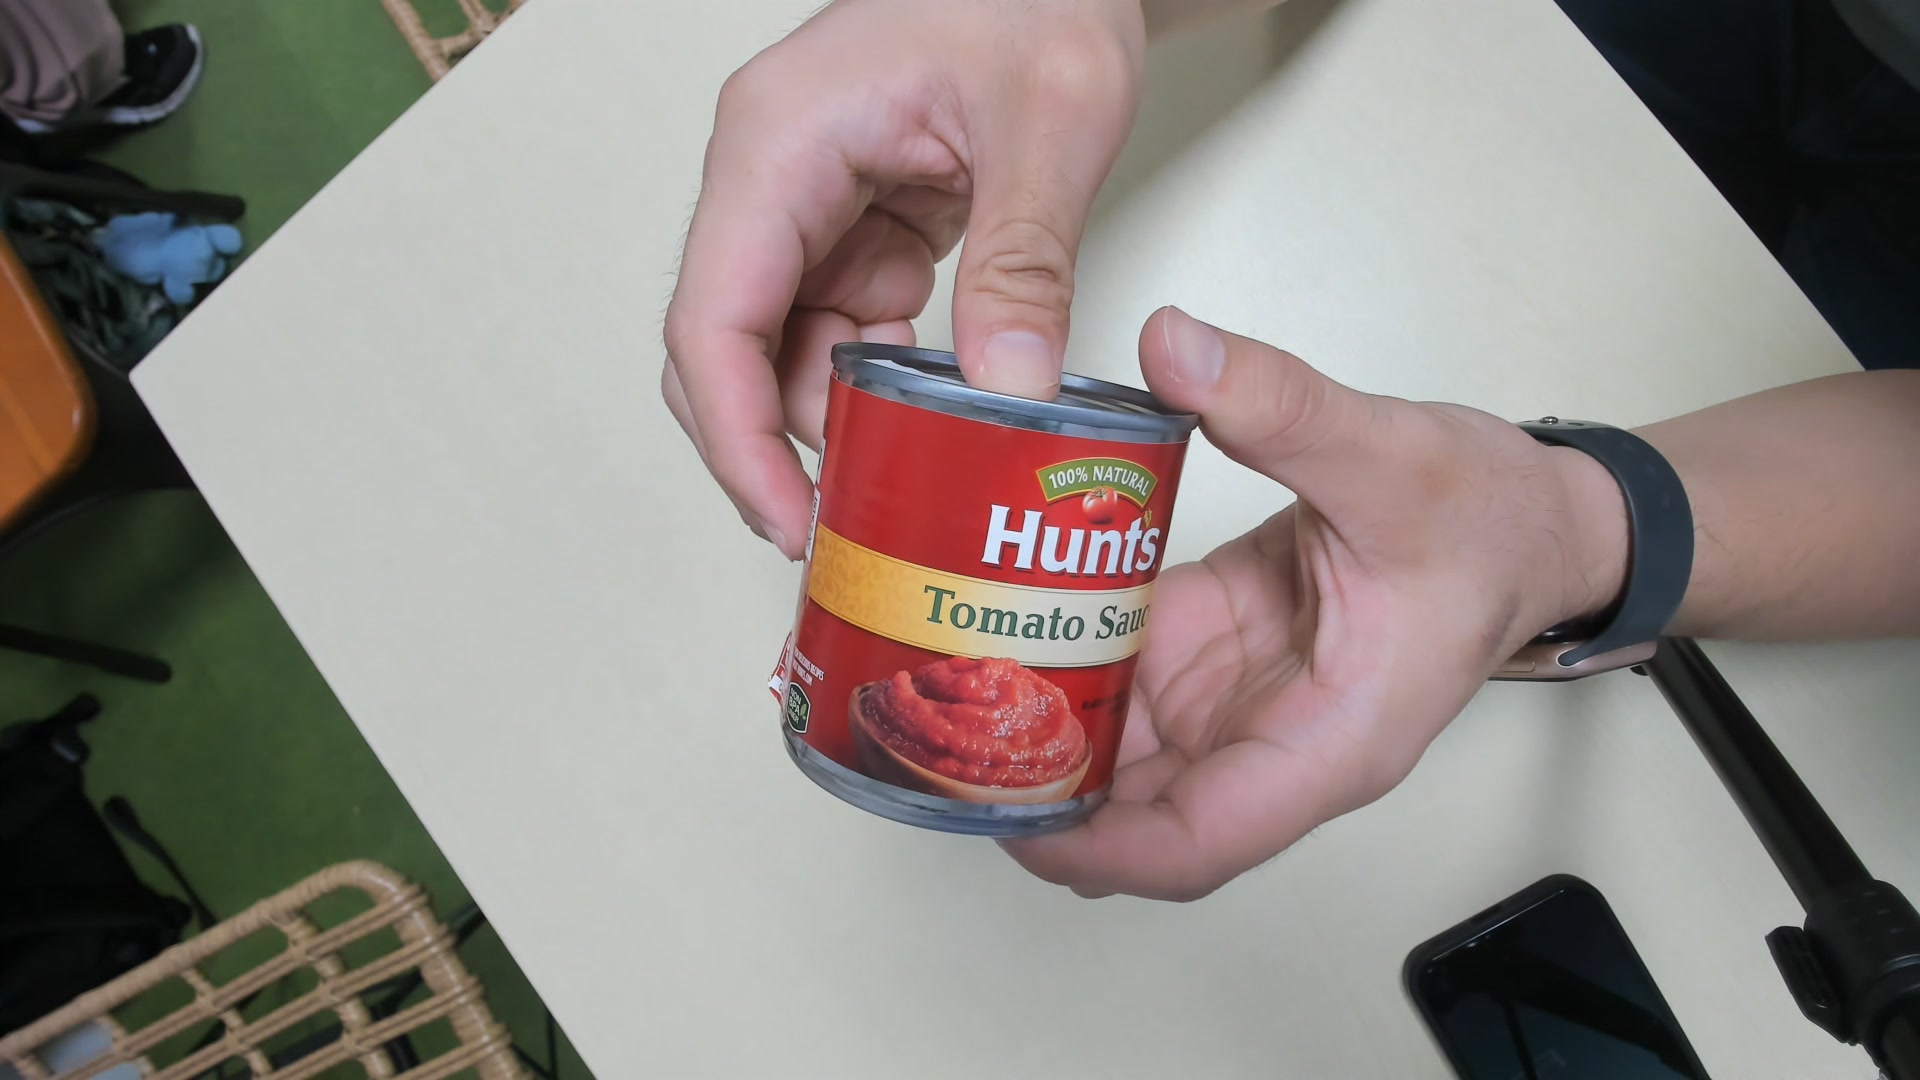OtherSauceDressing_200-299g_NonHalal_NonHealthy: (771, 339, 1203, 847)
